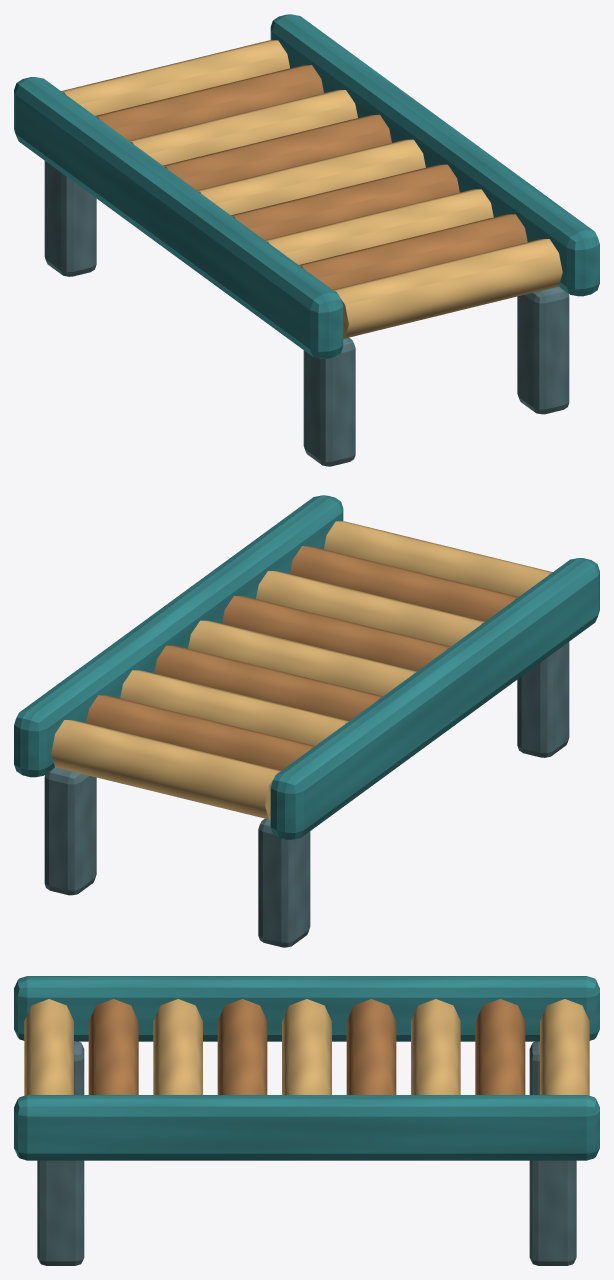
File: conveyor-straight.glb
3 views of the same model, one above another, from view 1: azimuth 30°, elevation 25°; view 2: azimuth 150°, elevation 25°; view 3: azimuth 270°, elevation 25° (orthographic). The views are drawn at different scales.
Parts seen in each view (by area): view 1: conveyor-straight-mesh; view 2: conveyor-straight-mesh; view 3: conveyor-straight-mesh.
Boxes of the visible parts, x1,y1,x2,y2 form: conveyor-straight-mesh: (14,14,599,466); conveyor-straight-mesh: (14,495,599,947); conveyor-straight-mesh: (14,976,599,1265).
Size of the model in its own units: 1.08 by 0.655 by 2.
Materials: 1 (1 with a texture image).
